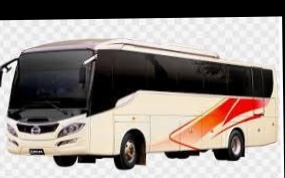bus: (0, 36, 277, 172)
